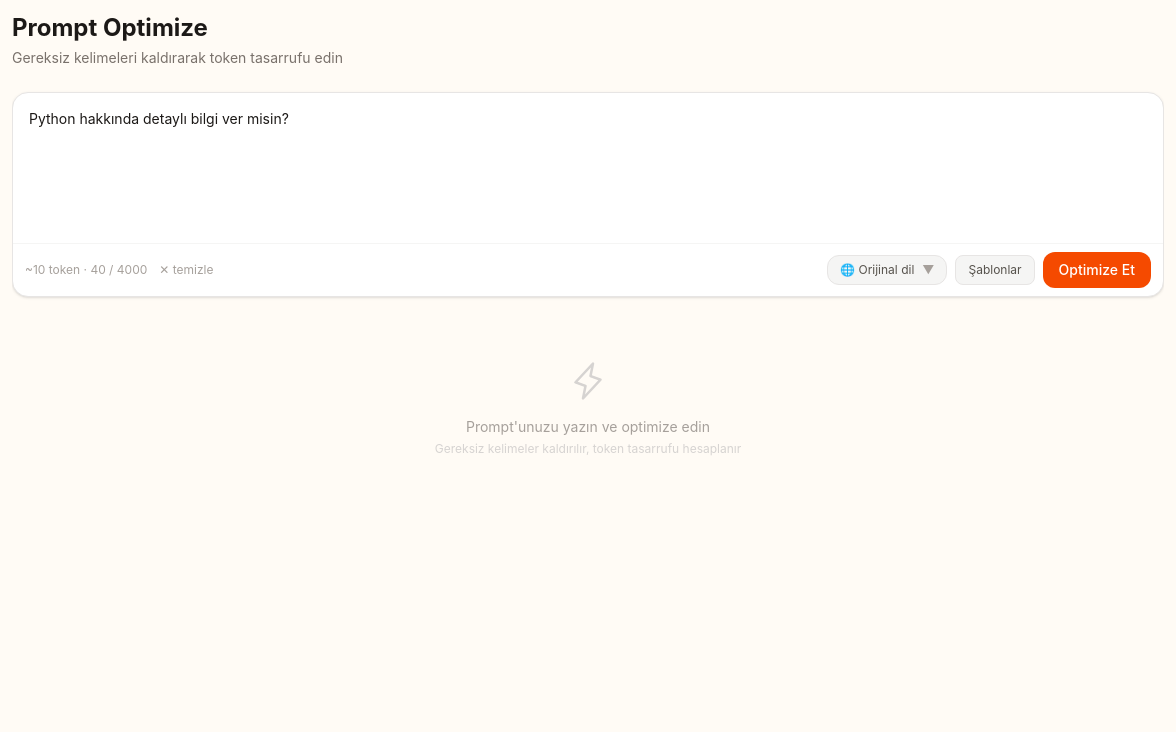
Senaryo 1 — Başarılı optimizasyon › optimize sonrası "Python hakkında bilgi ver" ekranda görünmeli
Note: Buton prompt dolu olduğu için enabled
Click the button "Optimize Et" at (1097, 270), box [1043, 252, 1151, 288]
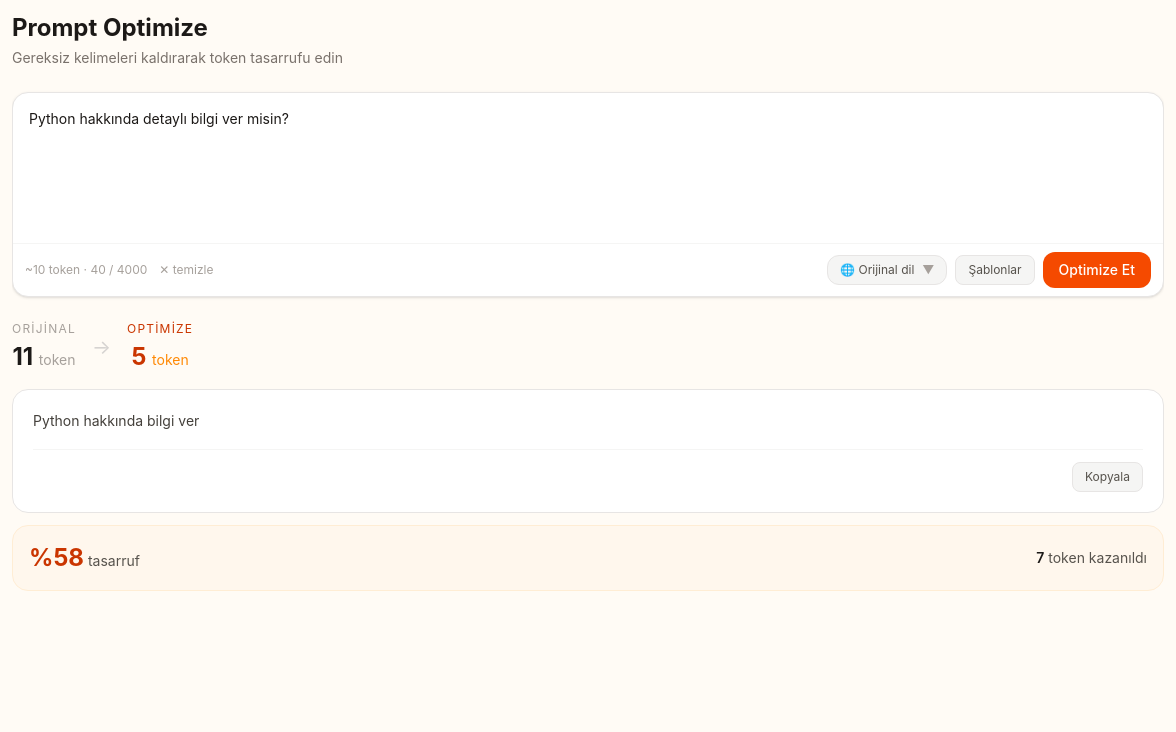
Expected: the text "Python hakkında bilgi ver" is shown, [33, 412, 199, 429]
